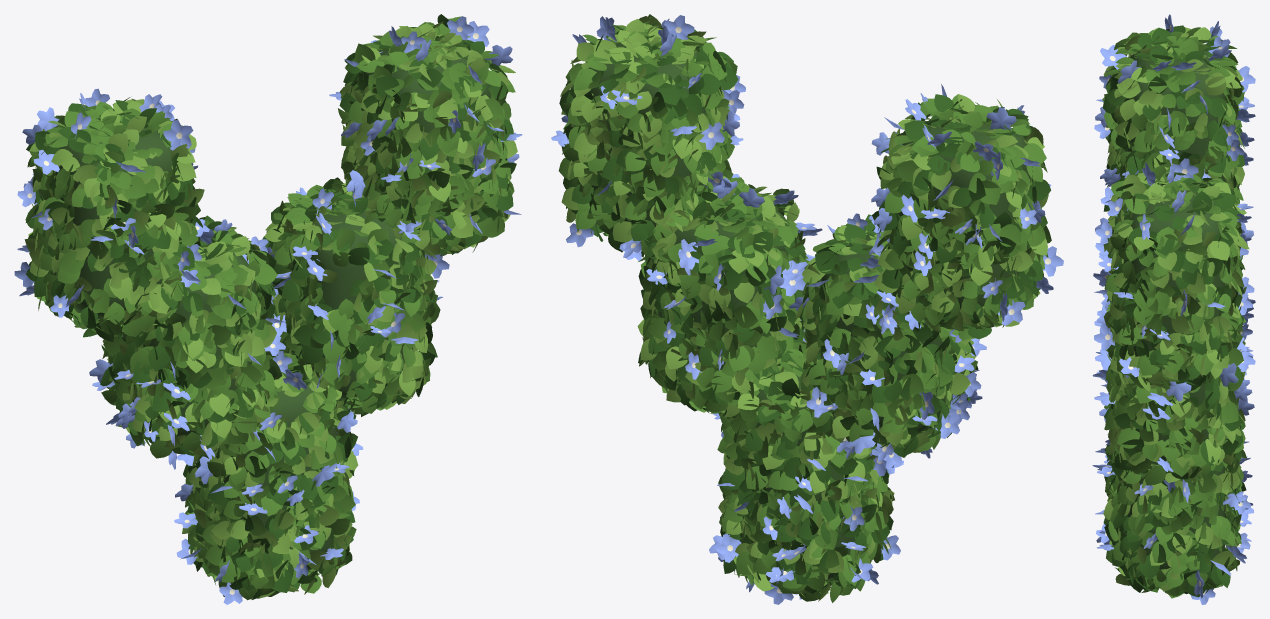
File: v_florido.glb
The picture shows the model from 3 angles, left to right: view 1: azimuth 30°, elevation 25°; view 2: azimuth 150°, elevation 25°; view 3: azimuth 270°, elevation 25°; orthographic projection. The views are drawn at different scales.
Visible parts, largest first — view 1: V_folhas, V_flores, V_base; view 2: V_folhas, V_flores, V_base; view 3: V_folhas, V_flores, V_base.
Boxes of the visible parts, x1,y1,x2,y2 form: V_folhas: (24, 14, 517, 600); V_flores: (14, 16, 522, 604); V_base: (50, 38, 492, 570); V_folhas: (558, 14, 1051, 602); V_flores: (551, 15, 1063, 604); V_base: (581, 42, 1030, 580); V_folhas: (1102, 25, 1249, 598); V_flores: (1092, 14, 1255, 604); V_base: (1123, 45, 1224, 574).
Size of the model in its own units: 4.97 by 5.36 by 1.61.
